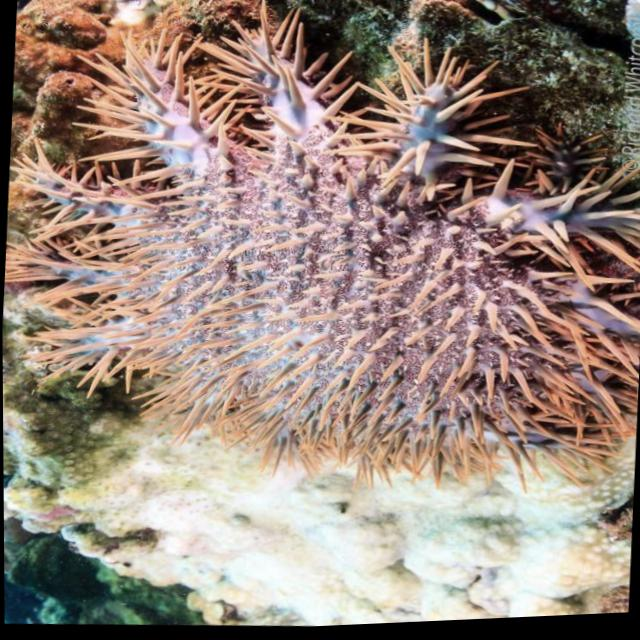Bleached Coral: (3, 437, 635, 640)
